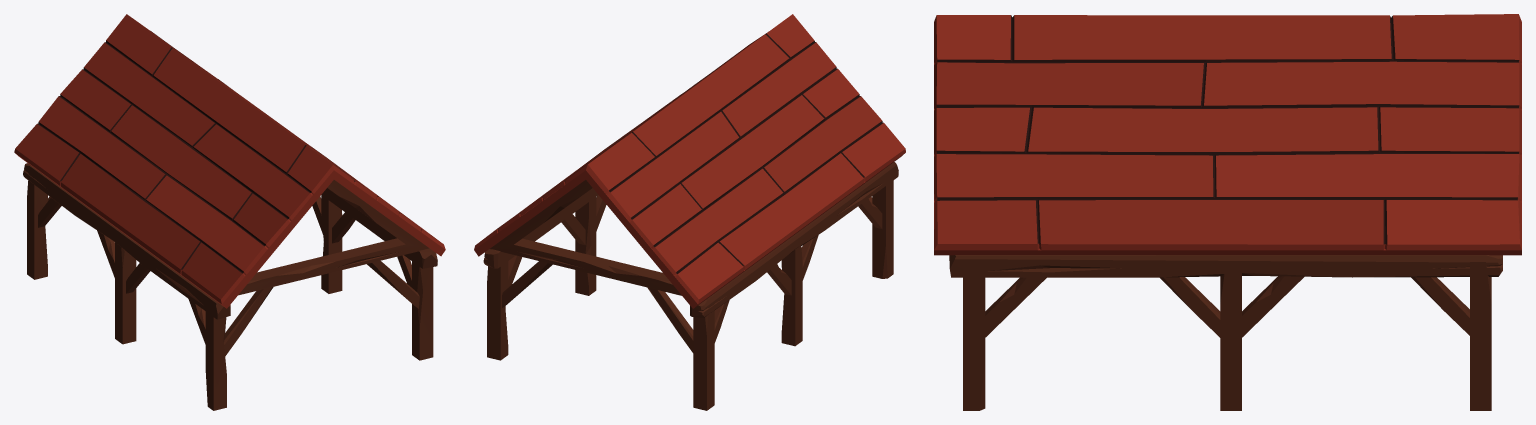
File: Shed2.fbx
3 views of the same model, side by side, from view 1: azimuth 30°, elevation 25°; view 2: azimuth 150°, elevation 25°; view 3: azimuth 270°, elevation 25° (orthographic). The views are drawn at different scales.
Visible parts, largest first — view 1: Shed2; view 2: Shed2; view 3: Shed2.
Boxes of the visible parts, box(x1,y1,x2,y2) form: Shed2: box(14, 14, 445, 410); Shed2: box(474, 14, 905, 410); Shed2: box(934, 14, 1521, 410).
Bounding box in the file's own units: 123 × 119 × 197.
